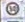limite 50: (4, 1, 20, 15)
